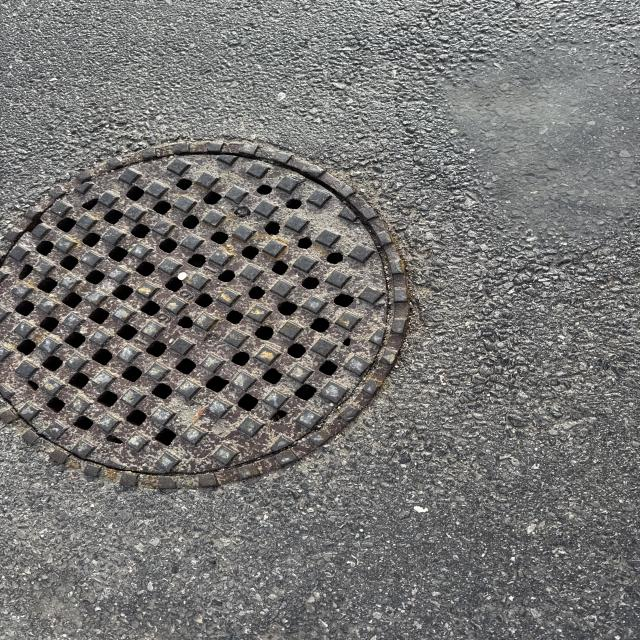Manhole: (2, 139, 414, 494)
